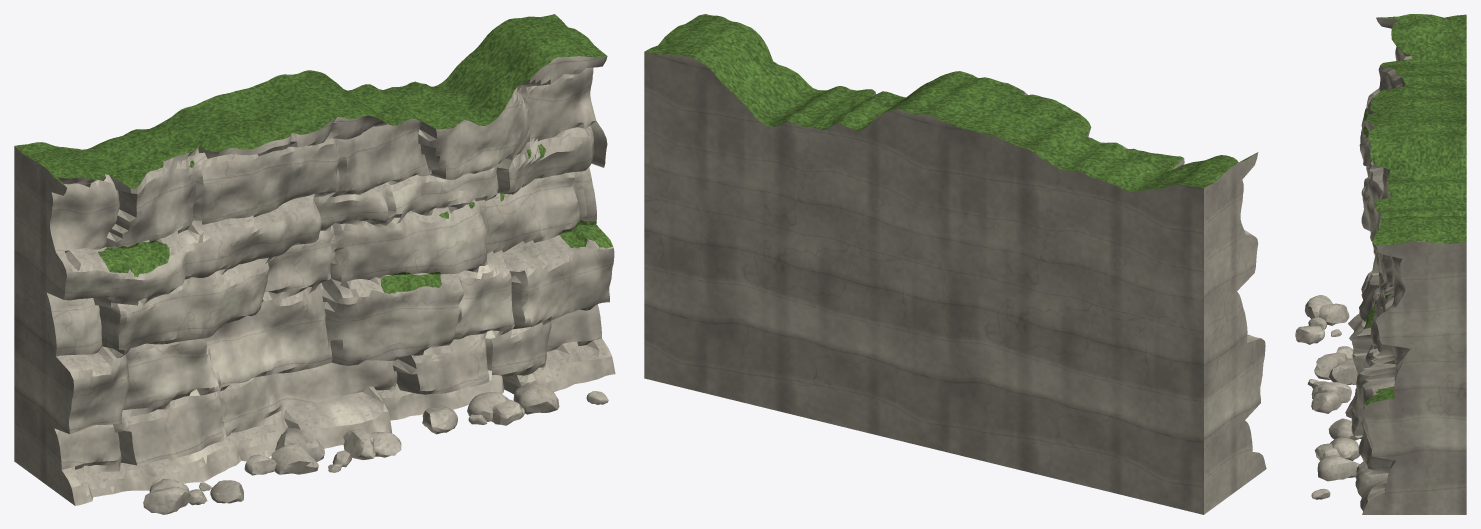
File: cliff-wall.glb
3 views of the same model, side by side, from view 1: azimuth 30°, elevation 25°; view 2: azimuth 150°, elevation 25°; view 3: azimuth 270°, elevation 25° (orthographic). The views are drawn at different scales.
Visible parts, largest first — view 1: Cliff_Wall; view 2: Cliff_Wall; view 3: Cliff_Wall.
Part boxes in pixels (<box>): Cliff_Wall: <box>14,14,615,514</box>; Cliff_Wall: <box>644,14,1266,514</box>; Cliff_Wall: <box>1295,14,1466,514</box>.
Bounding box in the file's own units: 6 × 3.43 × 1.91.
3 materials, 3 textured.
